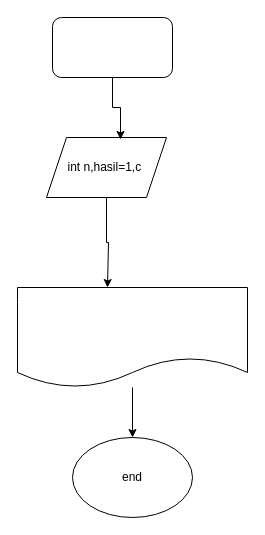
The diagram is 265 pixels wide and 535 high, and some of its shapes have lost their labels. The shapes that lost their labels are listed below. From the top down, each one's centre as x and y in pixels, then its label:
At point 112,47: "start".
At point 132,337: "c=n%10 n+=10 hasil*=n".
